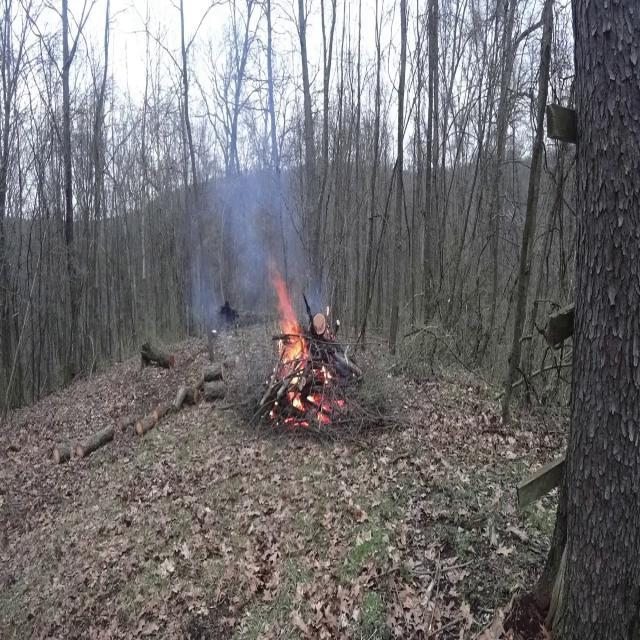Fire: (266, 270, 338, 415), (268, 263, 312, 412)
Smoke: (185, 121, 322, 386)
